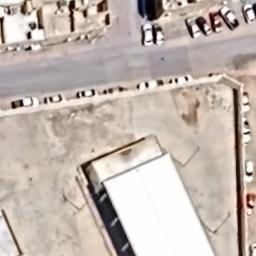SUV: (241, 117, 254, 145), (242, 2, 256, 26), (243, 158, 256, 182), (245, 191, 256, 216)
pickup: (218, 6, 242, 30), (7, 95, 44, 110), (137, 79, 168, 92)
sedan: (185, 16, 204, 40), (195, 14, 213, 38), (42, 93, 70, 107), (169, 75, 197, 88), (141, 21, 154, 46), (153, 21, 165, 47), (209, 11, 224, 31), (76, 88, 100, 100), (240, 91, 252, 114)
unknown: (249, 240, 256, 256)
